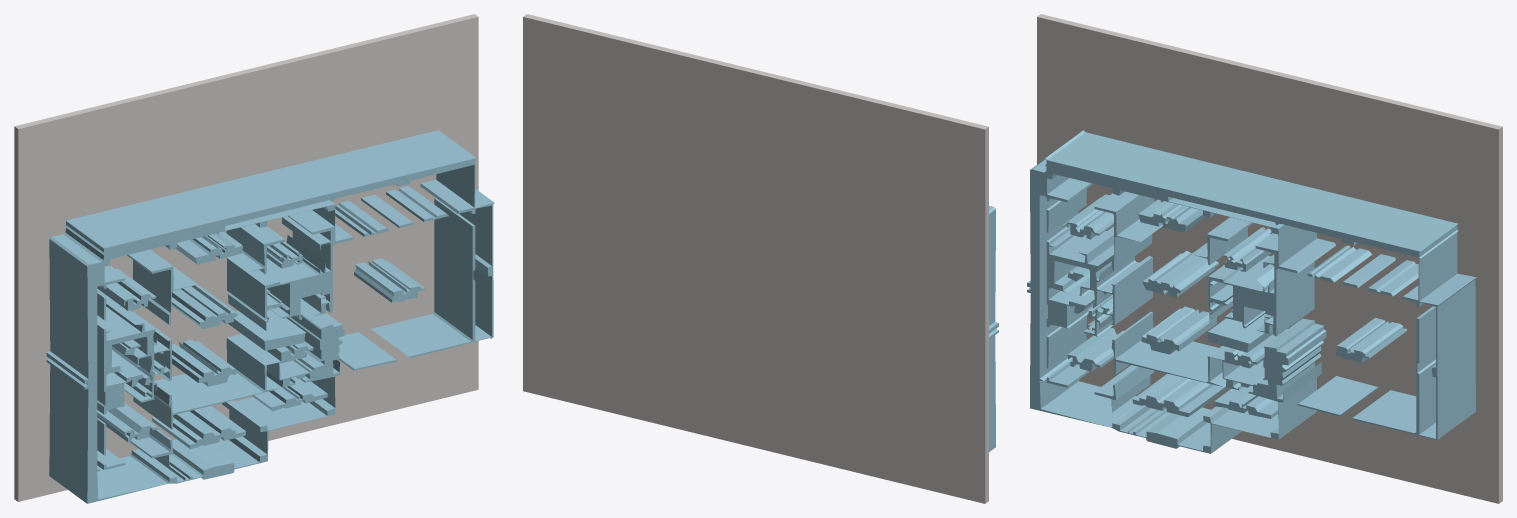
3 views of the same model, side by side, from view 1: azimuth 30°, elevation 25°; view 2: azimuth 150°, elevation 25°; view 3: azimuth 330°, elevation 25° (orthographic).
Visible parts, largest first — view 1: world; view 2: world; view 3: world.
Part boxes in pixels (left/top/right/bottom): world: left=14, top=14, right=494, bottom=503; world: left=523, top=14, right=998, bottom=503; world: left=1027, top=14, right=1502, bottom=503.
Bounding box in the file's own units: 10.23 × 7.92 × 1.62.
